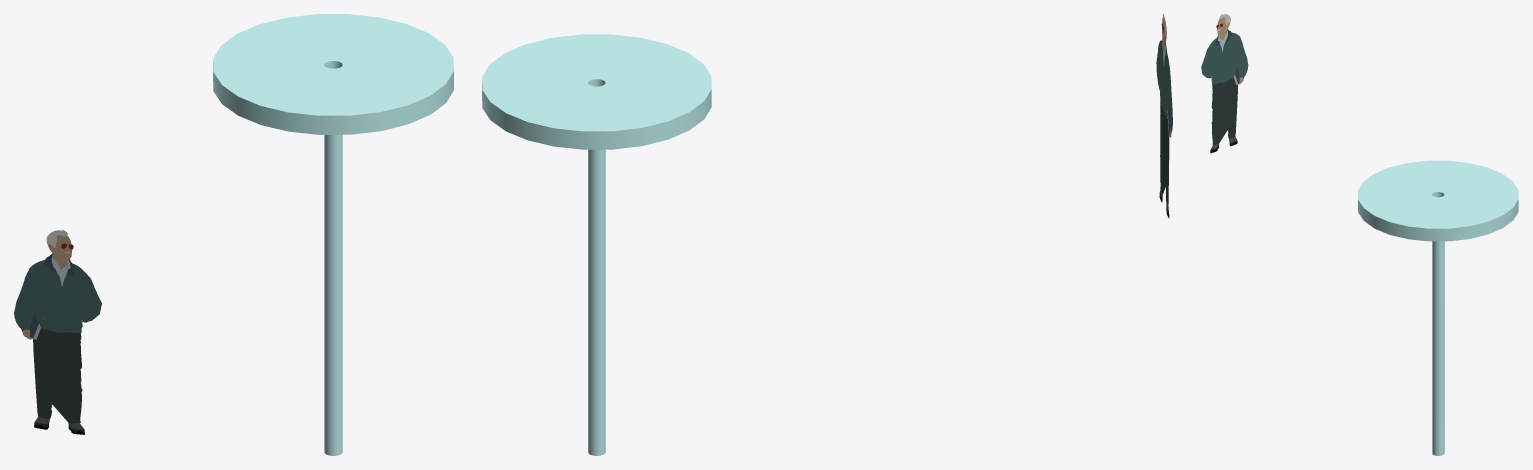
The model's file is OperasjonsBord_Example.fbx.
3 renders of one model, left to right at view 1: azimuth 30°, elevation 25°; view 2: azimuth 150°, elevation 25°; view 3: azimuth 270°, elevation 25°, orthographic. The views are drawn at different scales.
Visible parts, largest first — view 1: Model, Steve1; view 2: Model, Steve1; view 3: Model, Steve1.
Boxes of the visible parts, left/top/right/bottom form: Model: left=213, top=14, right=453, bottom=455; Steve1: left=14, top=229, right=101, bottom=434; Model: left=482, top=34, right=711, bottom=455; Steve1: left=1156, top=14, right=1172, bottom=218; Model: left=1358, top=160, right=1518, bottom=455; Steve1: left=1201, top=14, right=1248, bottom=153.
Size of the model in its own units: 4.96 by 3.73 by 3.61.
